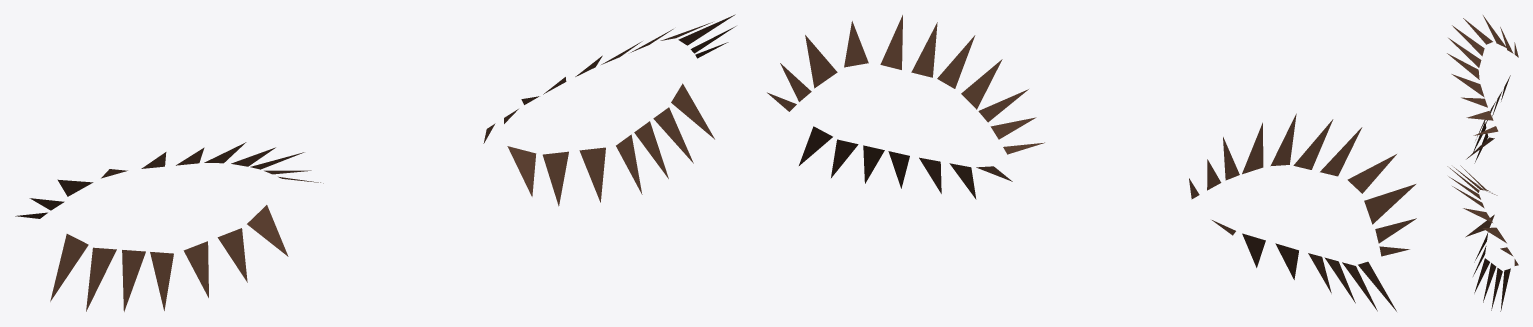
Rendered from miscEyeLashes.glb.
3 views of the same model, side by side, from view 1: azimuth 30°, elevation 25°; view 2: azimuth 150°, elevation 25°; view 3: azimuth 270°, elevation 25° (orthographic). The views are drawn at different scales.
Visible parts, largest first — view 1: miscEyeLashes; view 2: miscEyeLashes; view 3: miscEyeLashes.
Boxes of the visible parts, x1,y1,x2,y2 form: miscEyeLashes: [15, 14, 735, 311]; miscEyeLashes: [767, 15, 1416, 311]; miscEyeLashes: [1447, 15, 1518, 311].
Bounding box in the file's own units: 0.1633 × 0.0387 × 0.0223.
